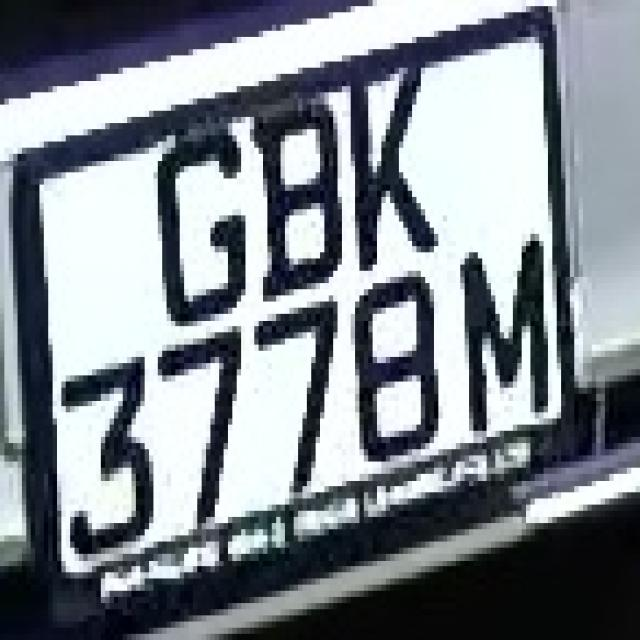3: (35, 351, 171, 572)
7: (136, 308, 254, 542), (250, 258, 346, 536)
8: (342, 252, 447, 468)
B: (237, 49, 342, 320)
G: (145, 74, 263, 314)
K: (316, 18, 430, 296)
M: (447, 246, 552, 486)
